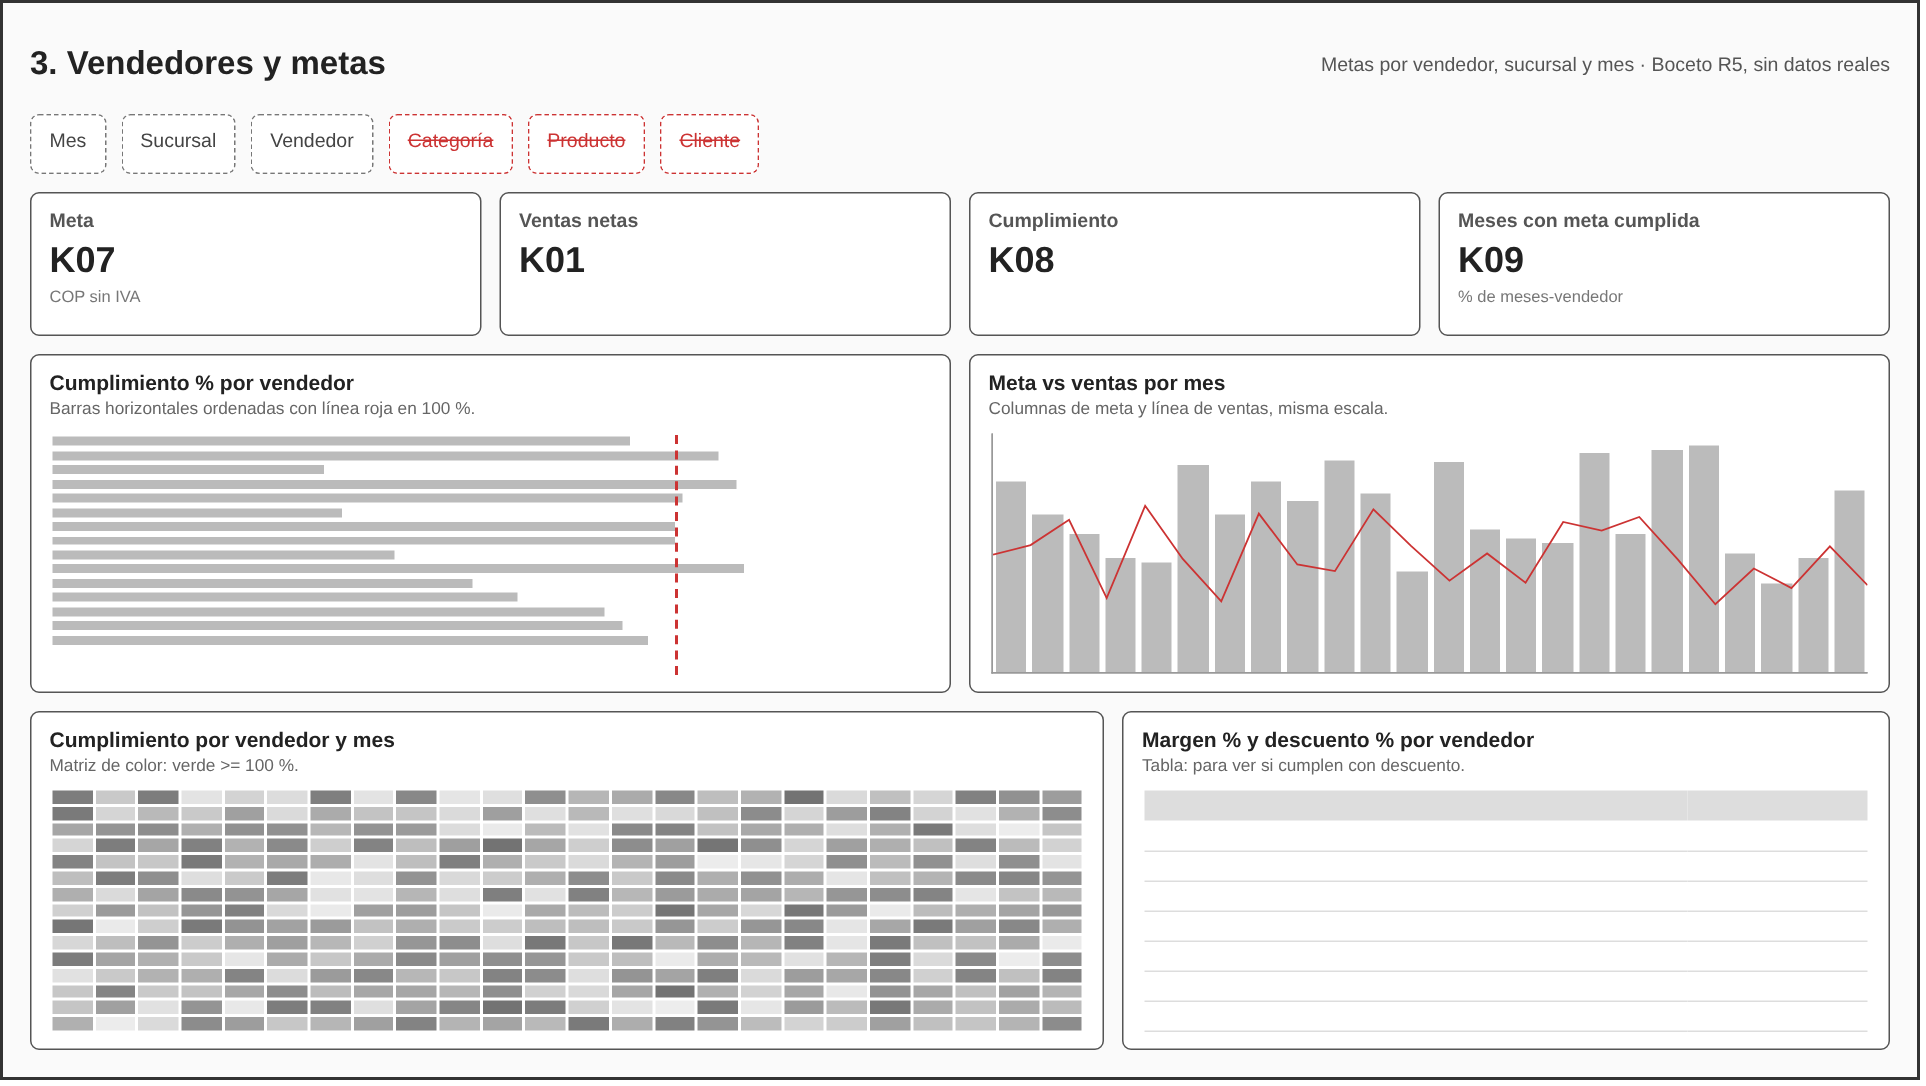

What the dashboard file says about the page in this screenshot:
{"tool":"powerbi","page":{"name":"3. Vendedores y metas","canvas":[1920,1080],"ordinal":2},"visuals":[{"type":"slicer","fields":{"Values":["dwh dim_fecha.anio_mes"]},"box":[9.3,0,387.4,101.9],"z":0},{"type":"slicer","fields":{"Values":["dwh dim_sucursal.nombre"]},"box":[426,0,387.4,101.9],"z":1},{"type":"slicer","fields":{"Values":["dwh dim_vendedor.nombre"]},"box":[850.4,0,387.4,92.6],"z":2},{"type":"cardVisual","fields":{"Data":["dwh fact_meta.K07 Meta de ventas","dwh fact_venta.K01 Ventas netas","dwh fact_meta.K08 Cumplimiento de meta %","dwh fact_meta.K09 Meses con meta cumplida %"]},"box":[9.3,115.8,1881.4,155.9],"z":3},{"type":"clusteredBarChart","fields":{"Category":["dwh dim_vendedor.vendedor"],"Y":["dwh fact_meta.K08 Cumplimiento de meta %"]},"box":[9.3,293.2,941.5,776.3],"z":4},{"type":"lineClusteredColumnComboChart","fields":{"Category":["dwh dim_fecha.anio_mes"],"Y":["dwh fact_meta.K07 Meta de ventas","dwh fact_venta.K01 Ventas netas"]},"box":[950.7,293.2,939.9,388.9],"z":5},{"type":"tableEx","fields":{"Values":["dwh dim_vendedor.vendedor","dwh fact_meta.K07 Meta de ventas","dwh fact_meta.K08 Cumplimiento de meta %","dwh fact_meta.K09 Meses con meta cumplida %","dwh fact_venta.K01 Ventas netas","dwh fact_venta.K03 Descuento efectivo %","dwh fact_venta.K06 Margen bruto %"]},"box":[951,682,940,387],"z":6}]}

Visuals, with their boxes in screenshot pixels (x1, y1, x2, y2), scaled from the page's 1920x1080 canvas onto the 1926x1086 screenshot:
slicer - dwh dim_fecha.anio_mes: l=9, t=0, r=398, b=102
slicer - dwh dim_sucursal.nombre: l=427, t=0, r=816, b=102
slicer - dwh dim_vendedor.nombre: l=853, t=0, r=1242, b=93
cardVisual - dwh fact_meta.K07 Meta de ventas x dwh fact_venta.K01 Ventas netas: l=9, t=116, r=1897, b=273
clusteredBarChart - dwh dim_vendedor.vendedor x dwh fact_meta.K08 Cumplimiento de meta %: l=9, t=295, r=954, b=1075
lineClusteredColumnComboChart - dwh dim_fecha.anio_mes x dwh fact_meta.K07 Meta de ventas: l=954, t=295, r=1897, b=686
tableEx - dwh dim_vendedor.vendedor x dwh fact_meta.K07 Meta de ventas: l=954, t=686, r=1897, b=1075
